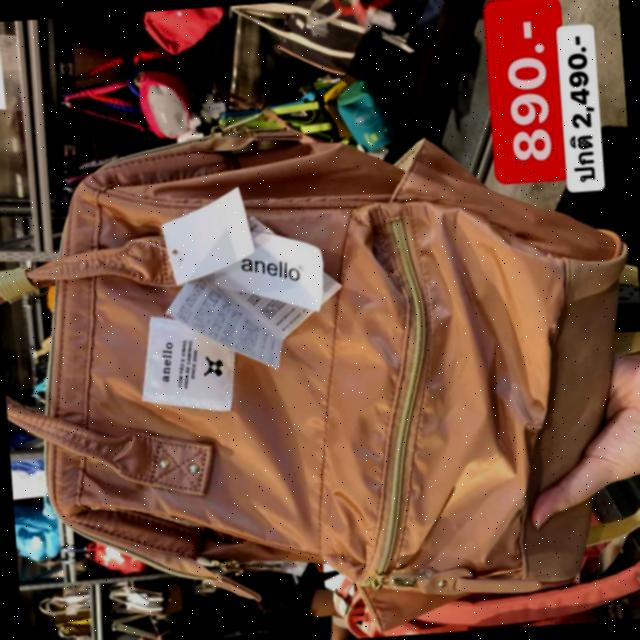Handbag: (4, 100, 640, 639)
